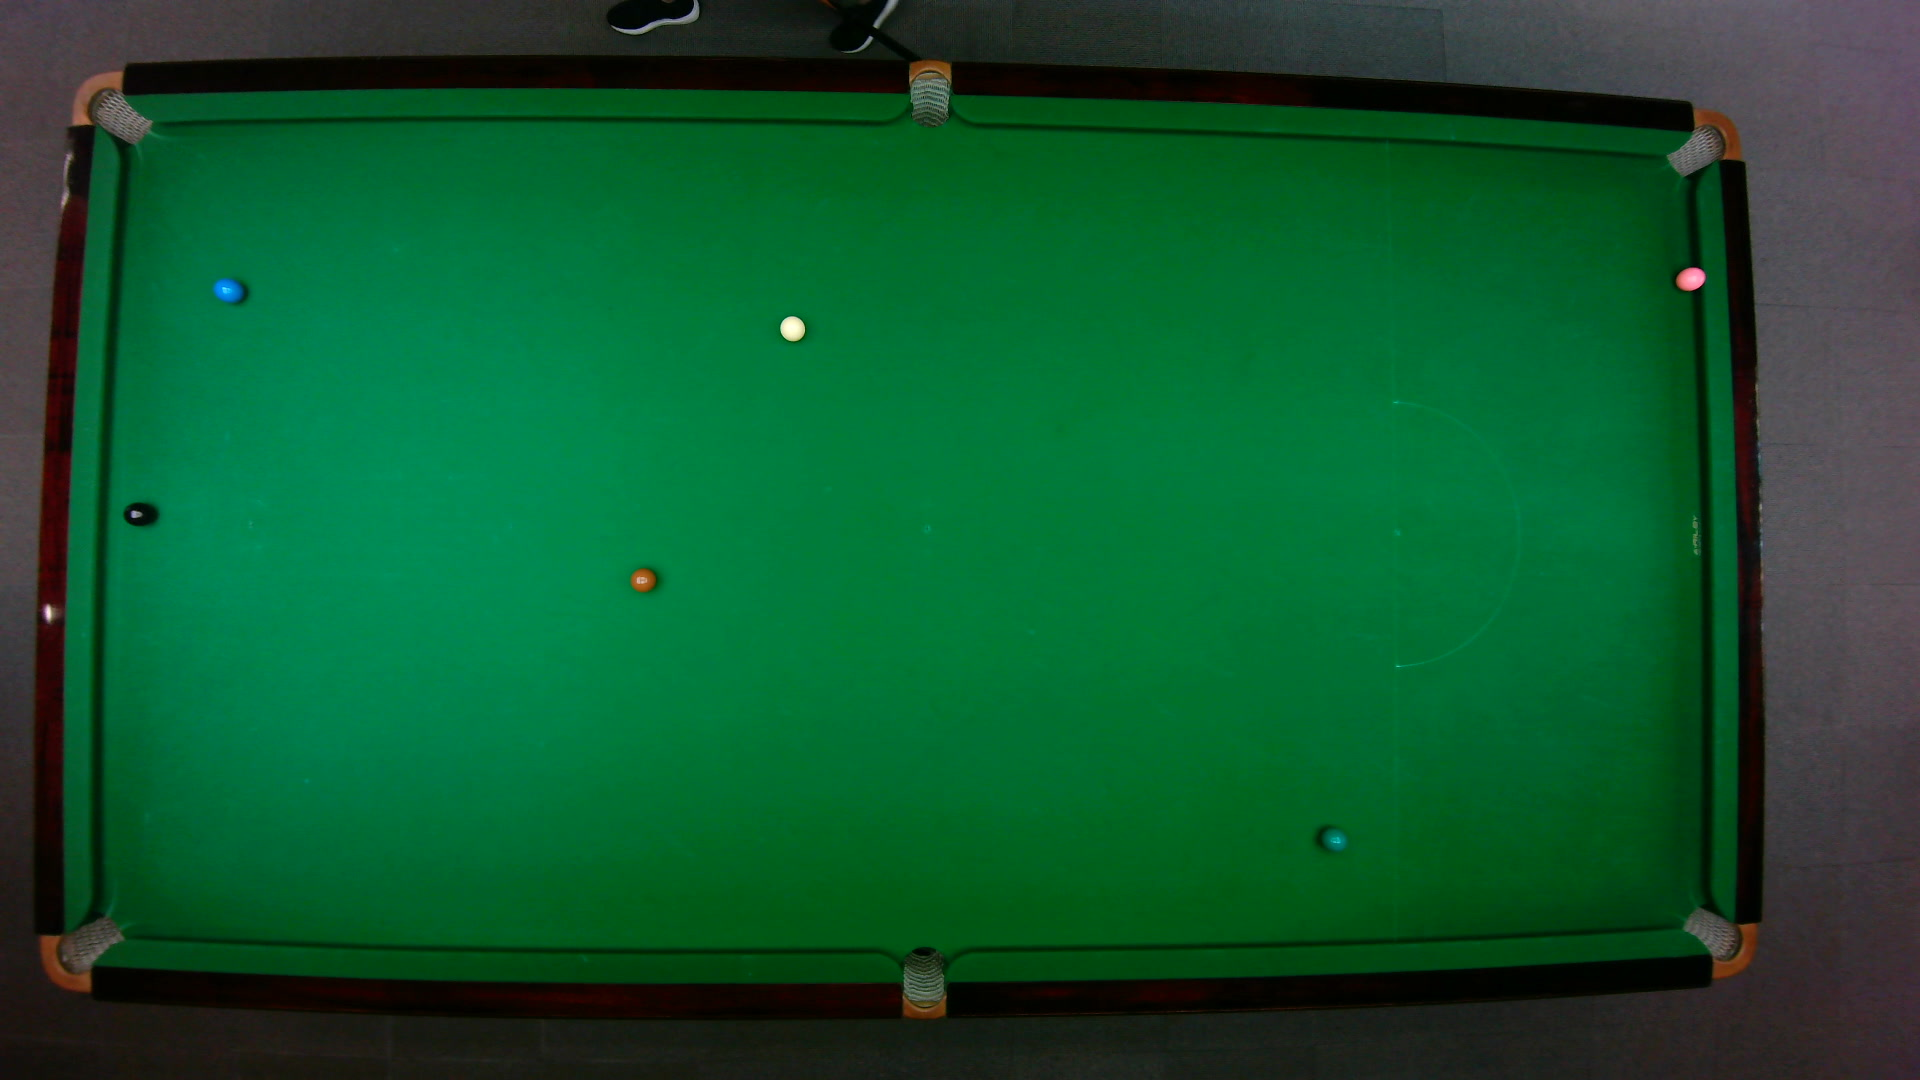bag: (37, 913, 125, 992), (69, 69, 152, 145), (1679, 905, 1756, 978), (1663, 107, 1741, 177), (901, 944, 944, 1021), (907, 57, 949, 128)
black: (121, 500, 154, 526)
blue: (211, 276, 245, 305)
brown: (629, 566, 655, 593)
green: (1317, 825, 1349, 851)
pink: (1673, 264, 1706, 291)
white: (777, 314, 806, 342)
zone: (1390, 400, 1520, 669)
